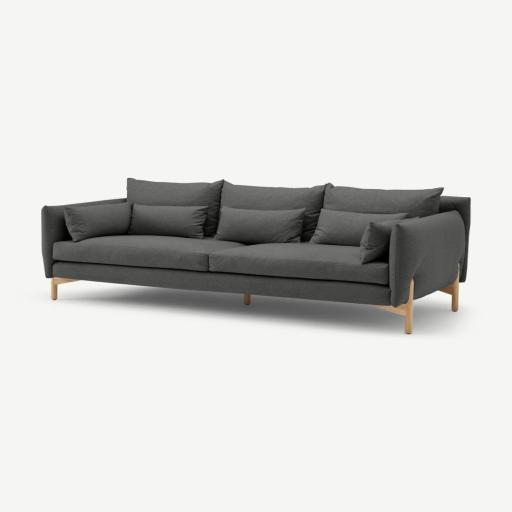back_cushion: (127, 178, 452, 242)
base: (53, 262, 390, 305)
left_arm: (389, 210, 468, 306)
legs: (376, 281, 413, 333), (440, 270, 458, 311), (50, 277, 79, 300), (243, 294, 250, 305)
right_arm: (42, 205, 70, 277), (65, 199, 127, 206)
seat_cushion: (52, 234, 389, 284)
two-seater: (0, 0, 511, 512)
